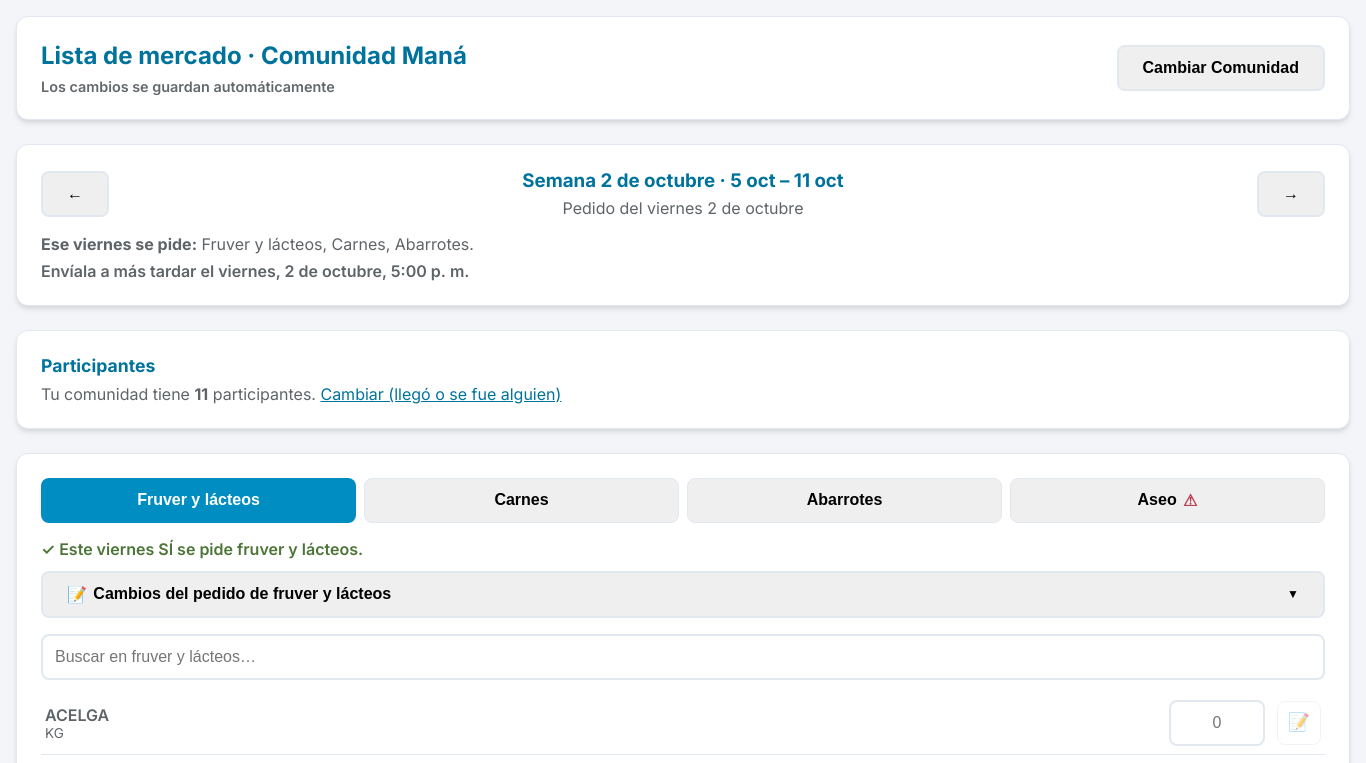
Test case: lista de mercado: pestañas y búsqueda › el buscador ignora tildes y mayúsculas, y avisa si no hay coincidencias
This screenshot has width=1366, height=763.
Type "aromaticas" into the search field named "Buscar producto". click: (683, 657)
box: x1=41 y1=634 x2=1325 y2=680
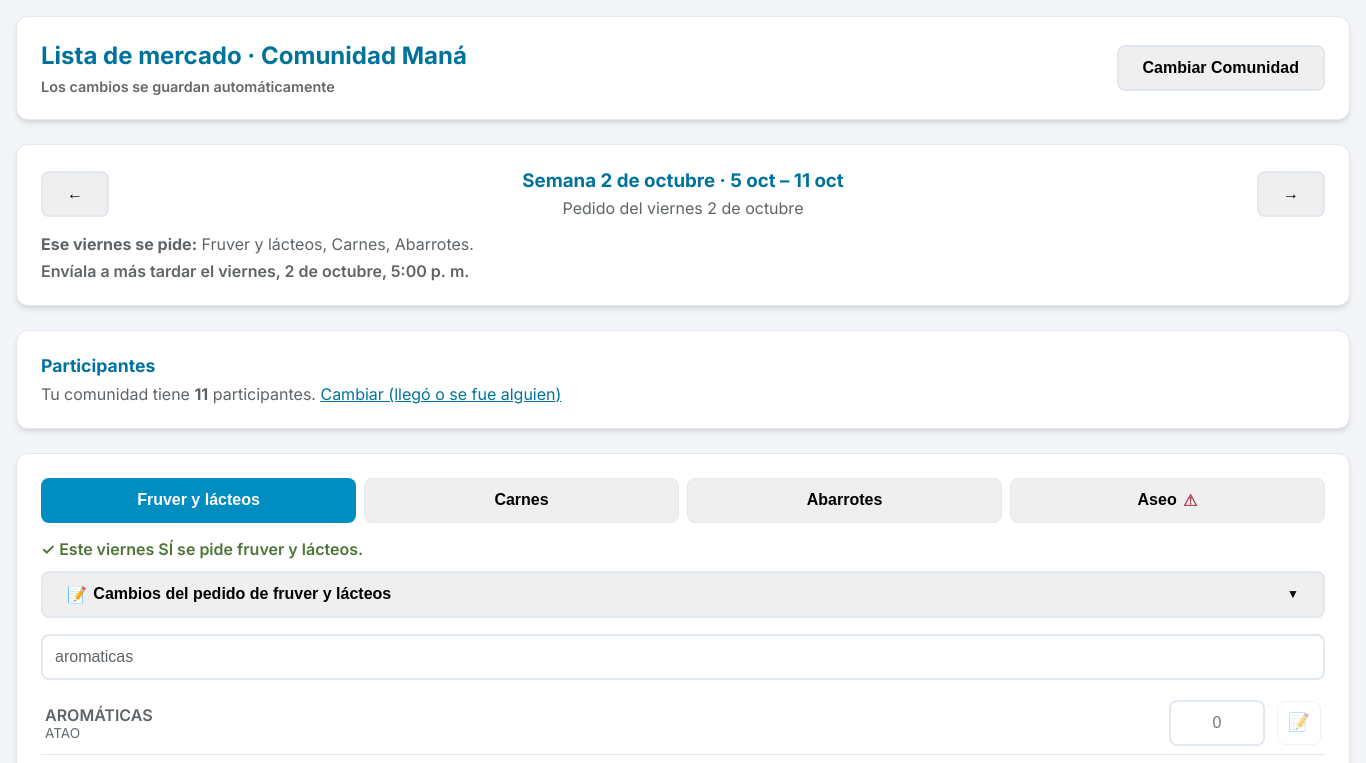
Expected: the text "AROMÁTICAS" is shown, x1=45 y1=705 x2=153 y2=725
Now the text "ACELGA" is gone
Replace the text in the search field named "Buscar producto" with "zzz". click: (683, 657)
box: x1=41 y1=634 x2=1325 y2=680
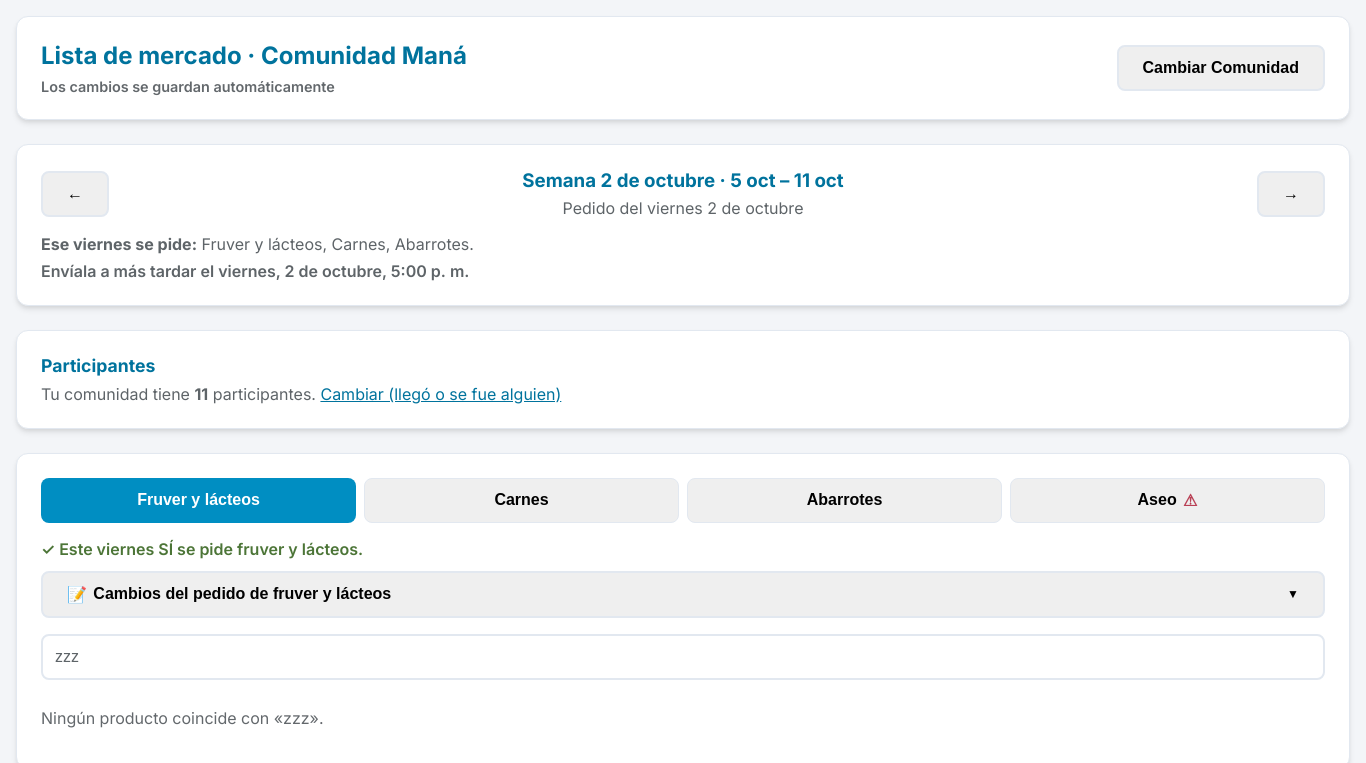
Now the text "Ningún producto coincide con «zzz»." is shown, box x1=41 y1=708 x2=324 y2=728
